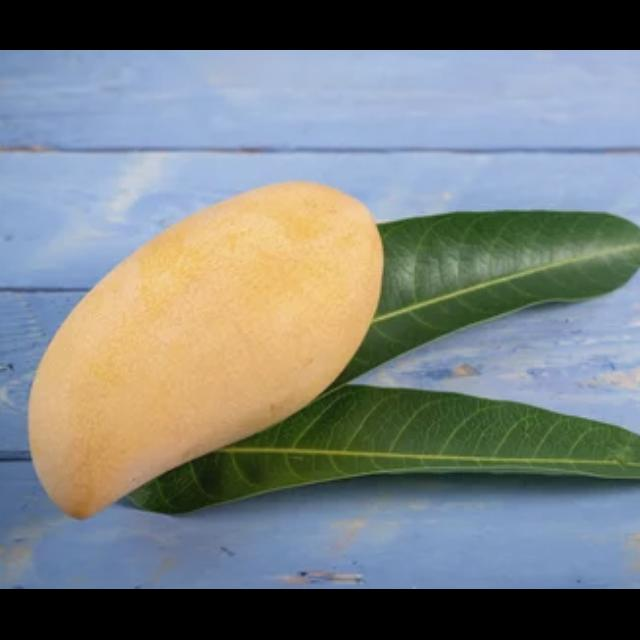mango: (27, 178, 386, 520)
